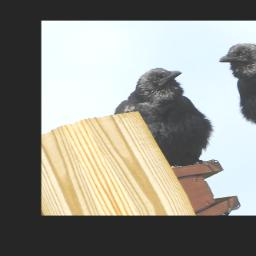Crow: (100, 60, 232, 182)
